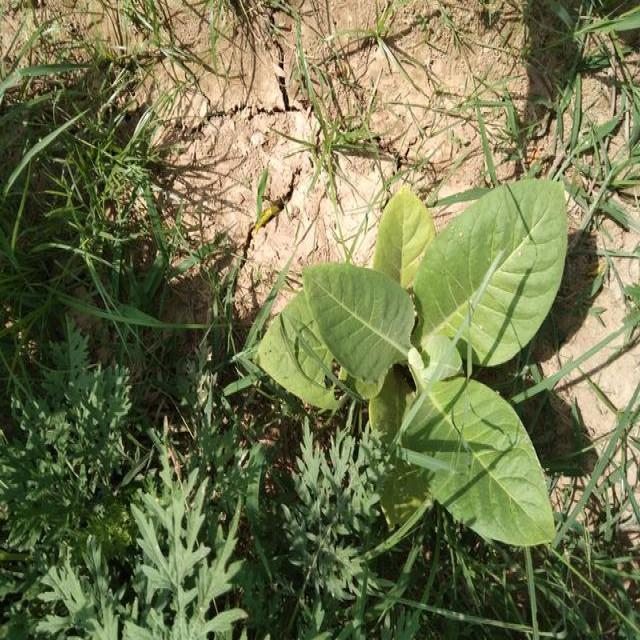crop: (258, 176, 558, 539)
